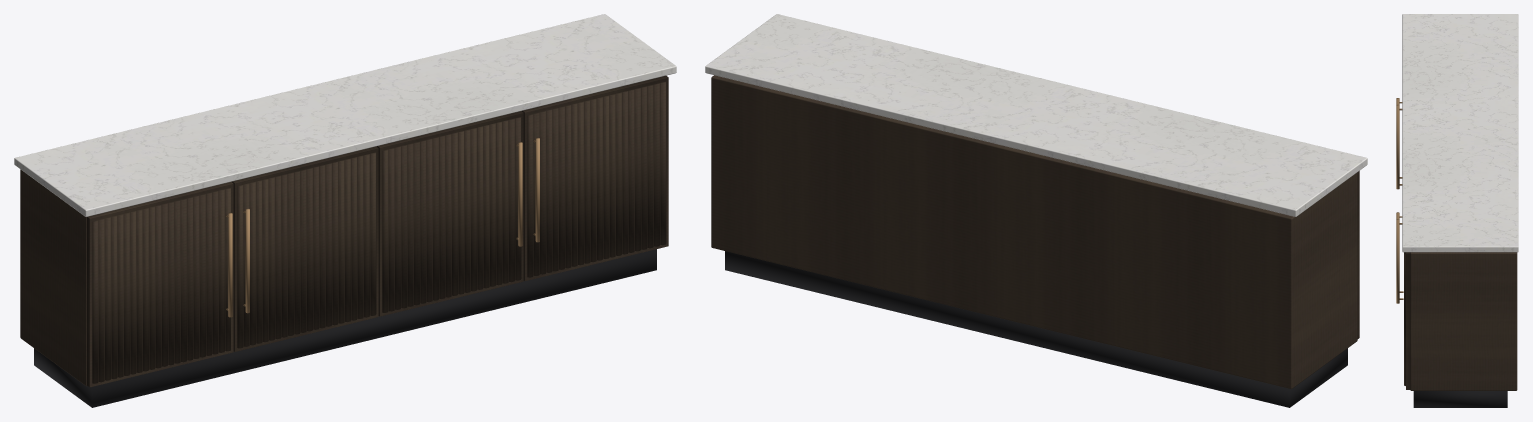
Rendered from dining_sideboard.gltf.
3 renders of one model, left to right at view 1: azimuth 30°, elevation 25°; view 2: azimuth 150°, elevation 25°; view 3: azimuth 270°, elevation 25°, orthographic. The views are drawn at different scales.
Parts seen in each view (by area): view 1: DiningSideboard_Ribs, DiningSideboard_Top, DiningSideboard_DoorPanels, DiningSideboard_Plinth, DiningSideboard_Carcass, DiningSideboard_Pulls; view 2: DiningSideboard_Carcass, DiningSideboard_Top, DiningSideboard_Plinth; view 3: DiningSideboard_Top, DiningSideboard_Carcass, DiningSideboard_Plinth, DiningSideboard_Pulls, DiningSideboard_DoorPanels, DiningSideboard_Ribs.
Part boxes in pixels (x1=…): DiningSideboard_Ribs: x1=92, y1=81, x2=666, y2=383; DiningSideboard_Top: x1=14, y1=14, x2=676, y2=216; DiningSideboard_DoorPanels: x1=87, y1=75, x2=668, y2=387; DiningSideboard_Plinth: x1=34, y1=249, x2=656, y2=407; DiningSideboard_Carcass: x1=20, y1=111, x2=521, y2=386; DiningSideboard_Pulls: x1=226, y1=137, x2=539, y2=317; DiningSideboard_Carcass: x1=711, y1=75, x2=1357, y2=388; DiningSideboard_Top: x1=705, y1=14, x2=1367, y2=216; DiningSideboard_Plinth: x1=725, y1=251, x2=1347, y2=407; DiningSideboard_Top: x1=1402, y1=14, x2=1518, y2=252; DiningSideboard_Carcass: x1=1410, y1=252, x2=1517, y2=390; DiningSideboard_Plinth: x1=1413, y1=391, x2=1507, y2=407; DiningSideboard_Pulls: x1=1396, y1=98, x2=1403, y2=303; DiningSideboard_DoorPanels: x1=1406, y1=252, x2=1410, y2=389; DiningSideboard_Ribs: x1=1404, y1=252, x2=1405, y2=385.
Size of the model in its own units: 2.52 by 0.84 by 0.56.
4 materials, 2 textured.
